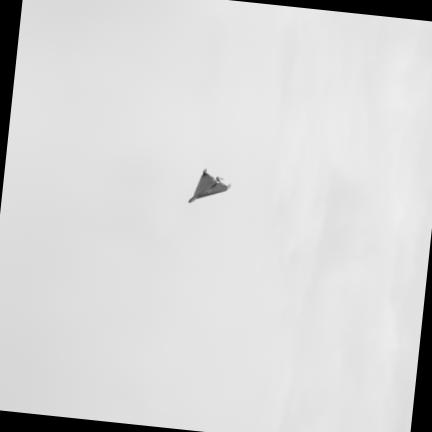Shahed: (188, 169, 229, 202)
